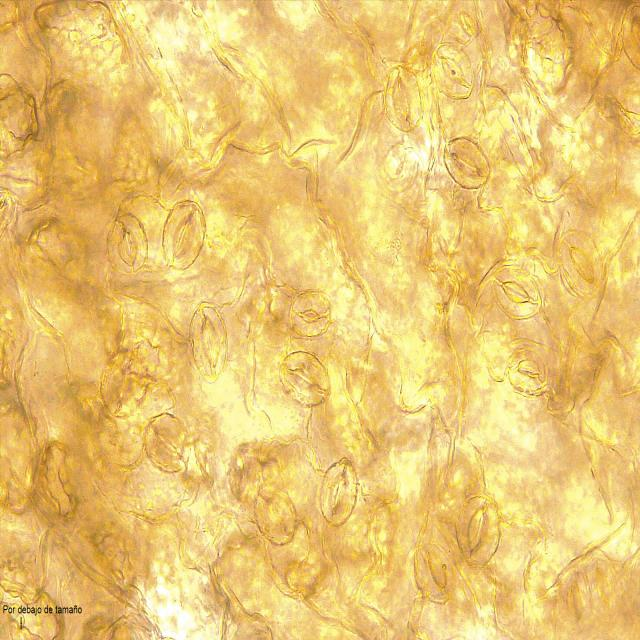Stomata: (453, 493, 502, 573), (98, 347, 149, 420), (160, 197, 208, 274), (188, 300, 230, 385), (558, 228, 606, 299), (276, 348, 332, 408), (142, 411, 191, 476), (382, 64, 426, 135), (492, 262, 544, 322), (318, 456, 360, 530), (104, 211, 151, 277), (412, 540, 457, 608), (430, 40, 476, 102), (254, 483, 298, 546), (444, 135, 492, 191), (289, 288, 334, 339), (508, 347, 548, 394)
